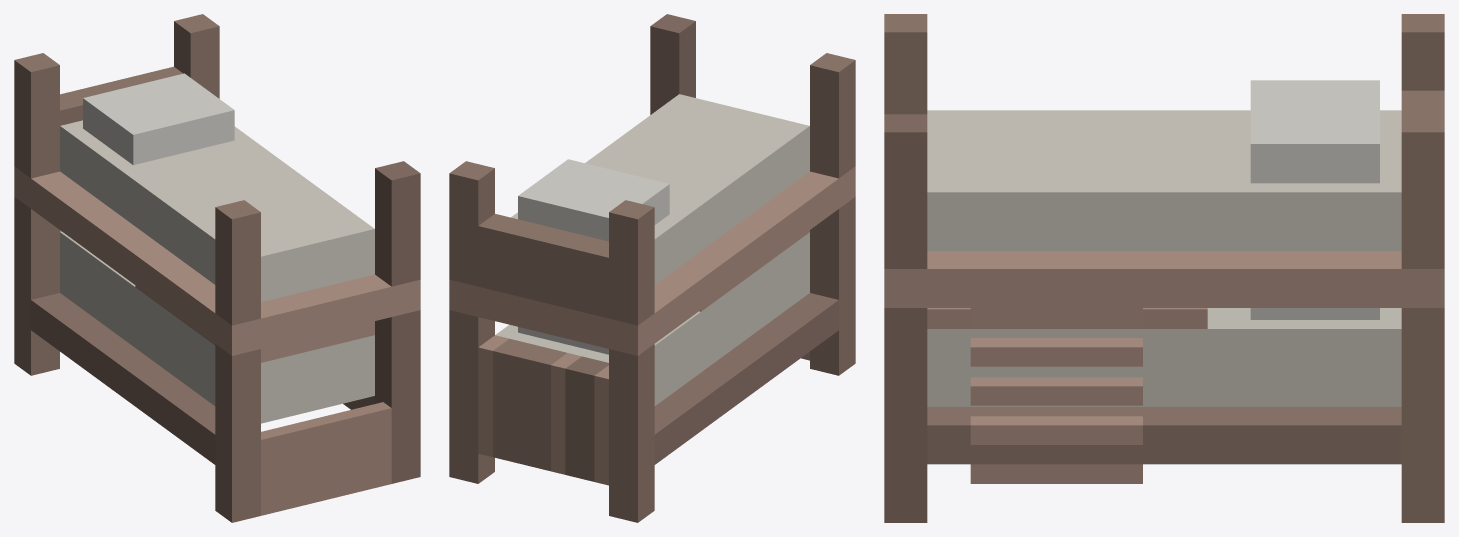
File: litera_desgastada_01.glb
3 renders of one model, left to right at view 1: azimuth 30°, elevation 25°; view 2: azimuth 150°, elevation 25°; view 3: azimuth 270°, elevation 25°, orthographic. The views are drawn at different scales.
Parts seen in each view (by area): view 1: litera_desgastada; view 2: litera_desgastada; view 3: litera_desgastada.
Part boxes in pixels (x1,y1,x2,y2): litera_desgastada: [14, 14, 420, 522]; litera_desgastada: [449, 14, 855, 522]; litera_desgastada: [884, 14, 1444, 522].
Bounding box in the file's own units: 1 × 1.54 × 2.
